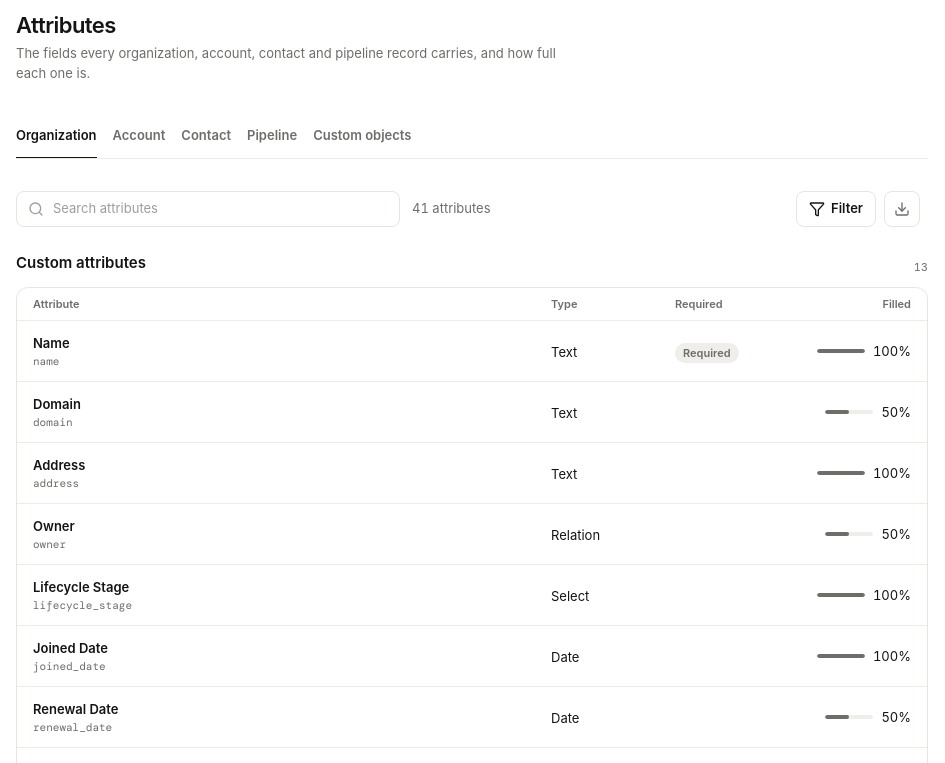
Test case: SettingsPage — Data tab, Organization sub-tab › switches attribute sets with tabs directly under the heading, one tab row only
Click the tab "Pipeline": (272, 136) [247, 114, 297, 158]
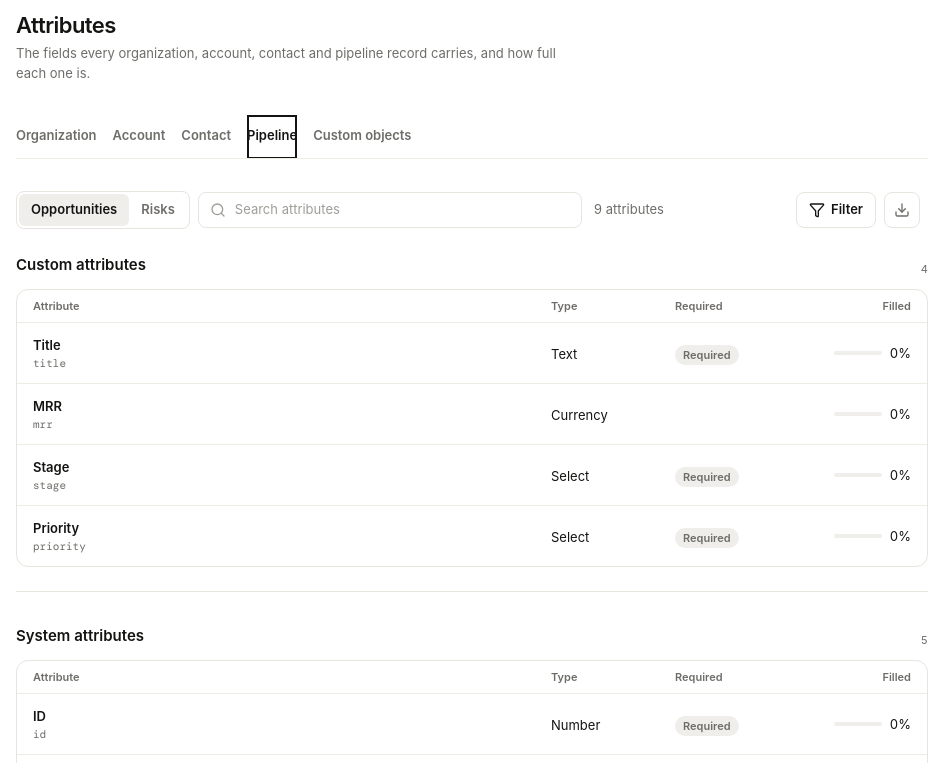
Expected: the element named "Pipeline records" is shown, [16, 191, 190, 229]
